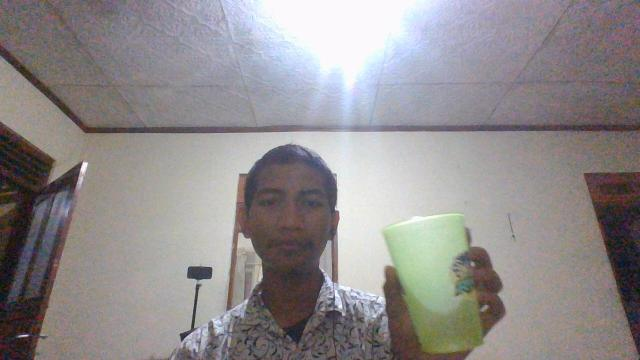botol-hijau: (380, 211, 504, 356)
